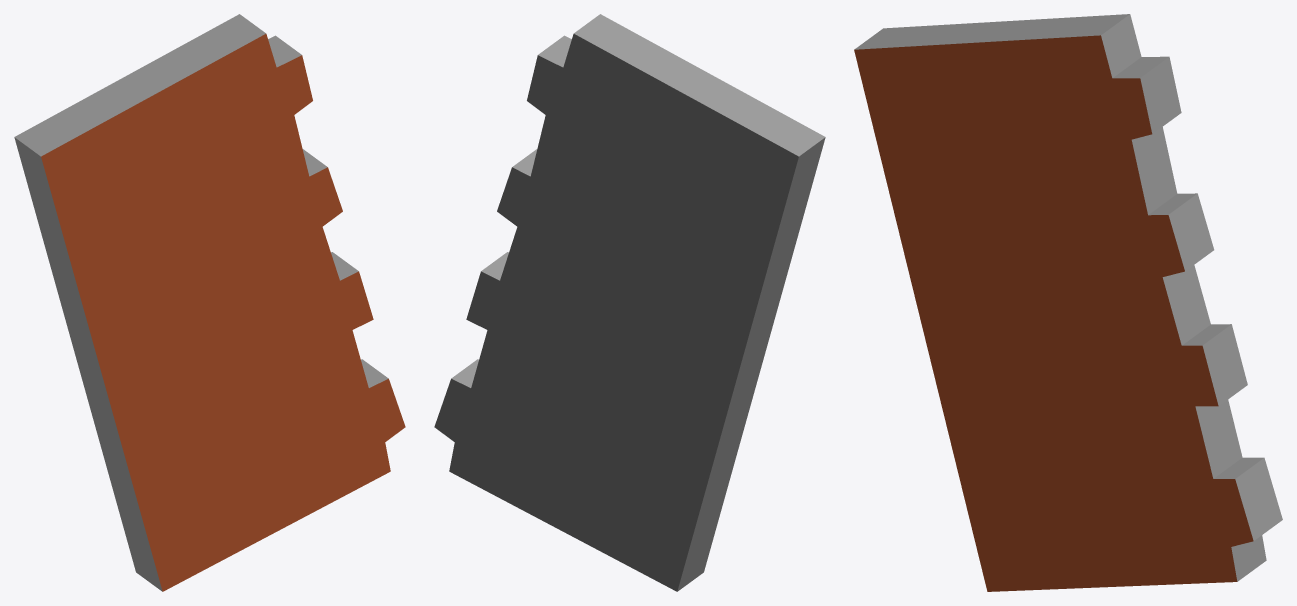
The model's file is construction_6594_assumed_A_Casa_h6m.obj.
3 views of the same model, side by side, from view 1: azimuth 30°, elevation 25°; view 2: azimuth 150°, elevation 25°; view 3: azimuth 330°, elevation 25° (orthographic). The views are drawn at different scales.
Parts seen in each view (by area): view 1: construction_6594_assumed_A_Casa; view 2: construction_6594_assumed_A_Casa; view 3: construction_6594_assumed_A_Casa.
Boxes of the visible parts, x1,y1,x2,y2 form: construction_6594_assumed_A_Casa: [14, 14, 405, 591]; construction_6594_assumed_A_Casa: [434, 14, 825, 591]; construction_6594_assumed_A_Casa: [854, 14, 1282, 591].
Size of the model in its own units: 47.32 by 66.11 by 6.
